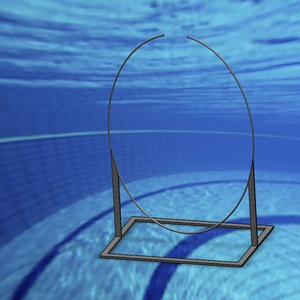circle: (98, 32, 275, 267)
